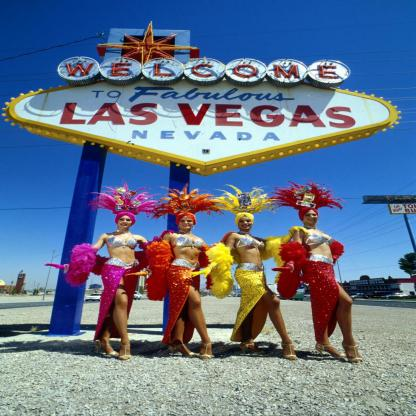face: (179, 216, 195, 231), (305, 210, 320, 225), (118, 215, 133, 229), (239, 216, 253, 230)
